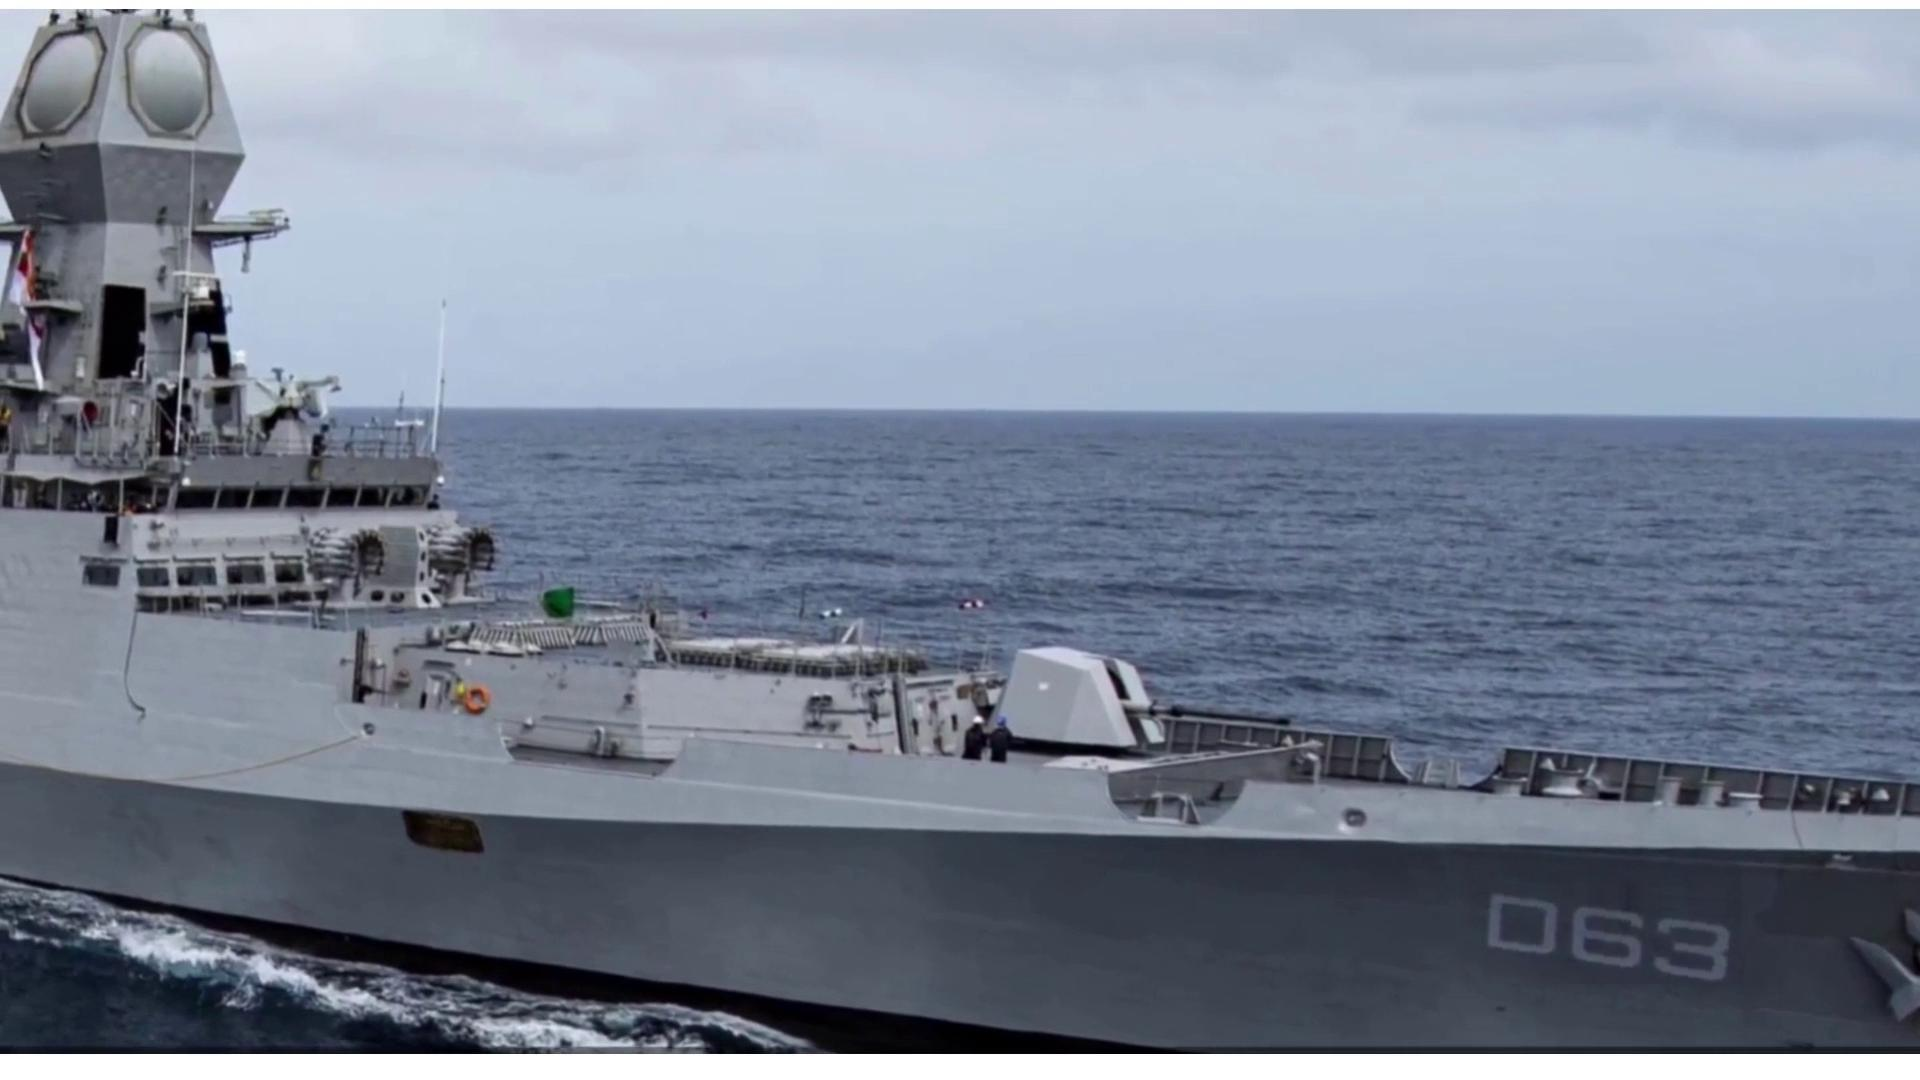OCR: (1478, 884, 1748, 984)
